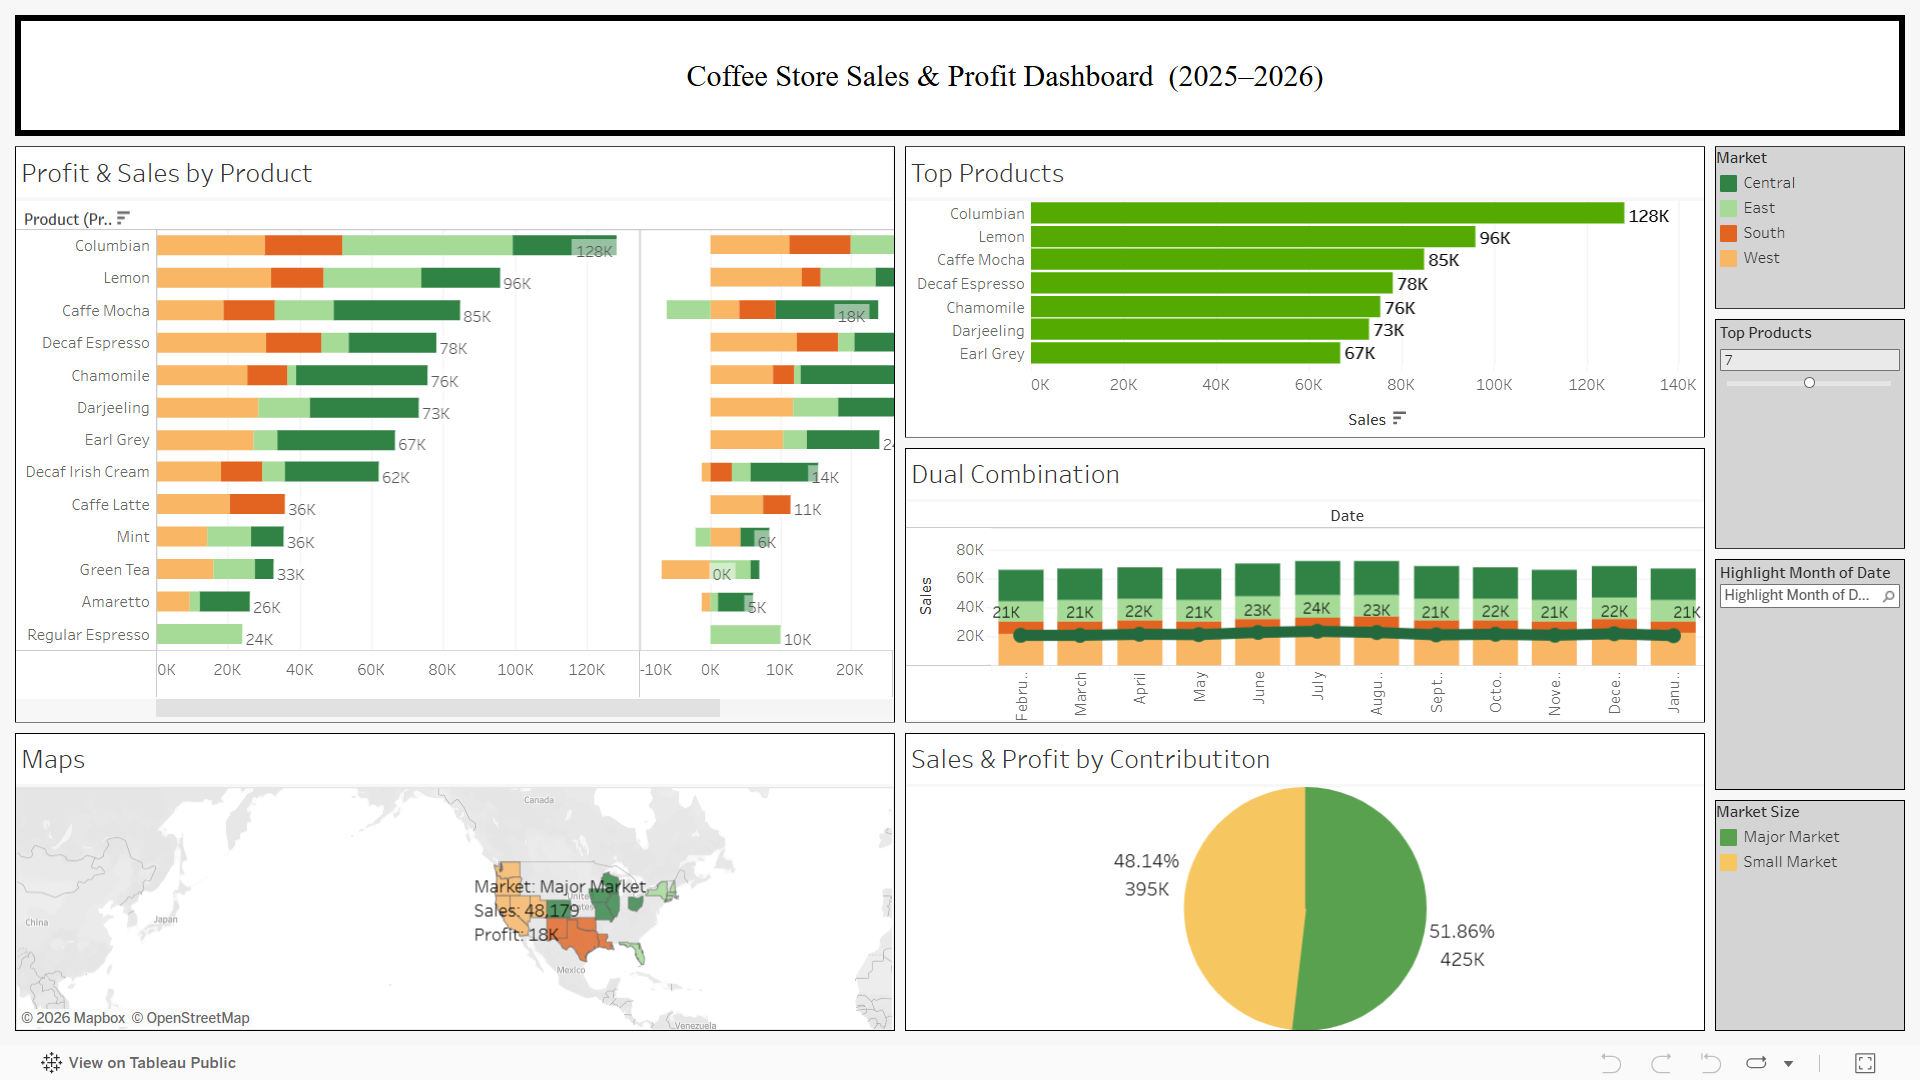

This screenshot's page, from the dashboard's own definition file:
{"tool":"tableau","page":{"name":"Dashboard 2","canvas":[1000,1000],"units":"permille","ordinal":1},"visuals":[{"type":"text","box":[11.4,10.1,977.2,124.8]},{"type":"worksheet","title":"Profit & Sales by Product","mark":"Automatic","rows":["Product"],"cols":["Sales","Profit"],"box":[11.4,134.9,392.5,559.8]},{"type":"worksheet","title":"Top Products","mark":"Bar","rows":["Product"],"cols":["Sales"],"box":[403.9,134.9,356.8,288.6]},{"type":"legend","title":"Profit & Sales by Product","param":"[federated.11adtr502je4ua19pb01t09uftpv].[none:Market:nk]","box":[760.7,134.9,227.9,174.5]},{"type":"parameter","param":"[Parameters].[Parameter 1]","box":[760.7,309.3,227.9,226.8]},{"type":"worksheet","title":"Dual Combination ","mark":"Automatic","rows":["Sales","Profit"],"cols":["Date"],"box":[403.9,423.5,356.8,271.2]},{"type":"highlighter","title":"Dual Combination ","param":"[federated.11adtr502je4ua19pb01t09uftpv].[mn:Date:ok]","box":[760.7,536.2,227.9,226.8]},{"type":"worksheet","title":"Maps","mark":"Multipolygon","box":[11.4,694.7,392.5,295.2]},{"type":"worksheet","title":"Sales & Profit by Contributiton","mark":"Pie","box":[403.9,694.7,356.8,295.2]},{"type":"legend","title":"Sales & Profit by Contributiton","param":"[federated.11adtr502je4ua19pb01t09uftpv].[none:Market Size:nk]","box":[760.7,763,227.9,226.8]}]}

Visuals, with their boxes on the dashboard's canvas, which has no fixed pixel size, in thousandths of its width and height (x1, y1, x2, y2). These are canvas units, not pixel positions in the 1920x1080 screenshot, which may show the page scaled, cropped or inside an application window:
text: rect(11, 10, 989, 135)
"Profit & Sales by Product" worksheet: rect(11, 135, 404, 695)
"Top Products" worksheet (Bar marks): rect(404, 135, 761, 424)
"Profit & Sales by Product" legend: rect(761, 135, 989, 309)
parameter: rect(761, 309, 989, 536)
"Dual Combination " worksheet: rect(404, 424, 761, 695)
"Dual Combination " highlighter: rect(761, 536, 989, 763)
"Maps" worksheet (Multipolygon marks): rect(11, 695, 404, 990)
"Sales & Profit by Contributiton" worksheet (Pie marks): rect(404, 695, 761, 990)
"Sales & Profit by Contributiton" legend: rect(761, 763, 989, 990)
